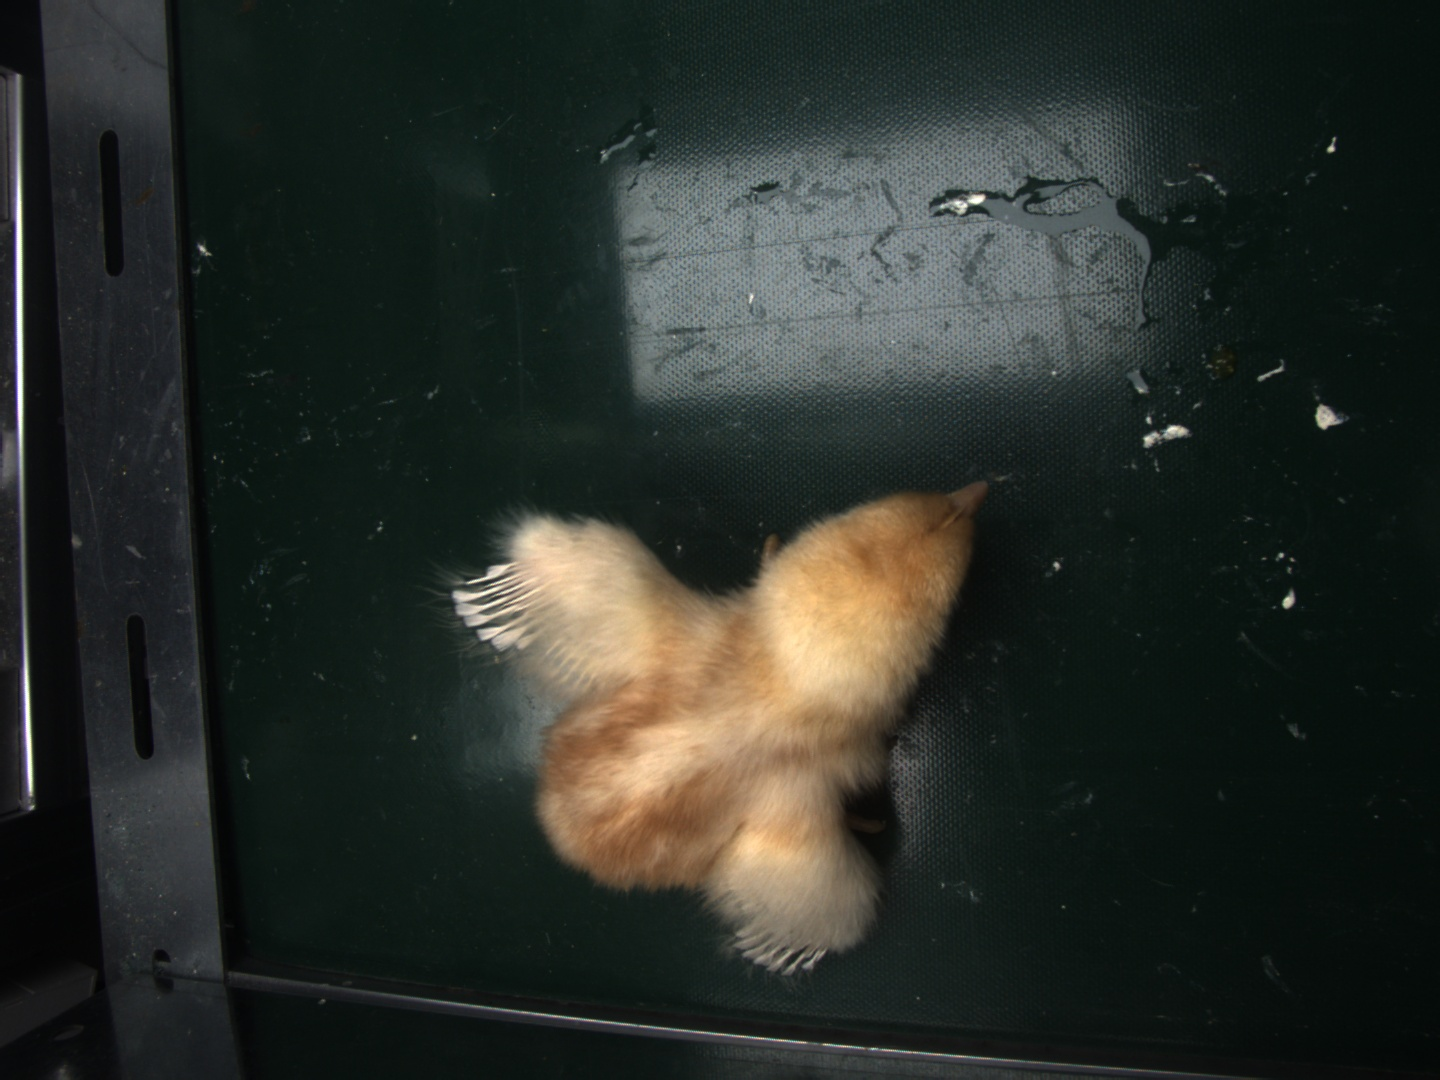female: (449, 562, 544, 656)
